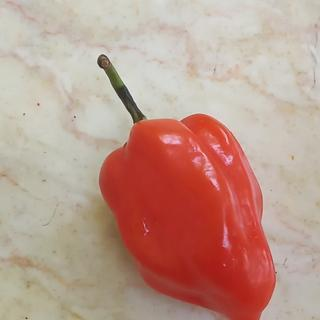Grade-A: (97, 109, 277, 317)
